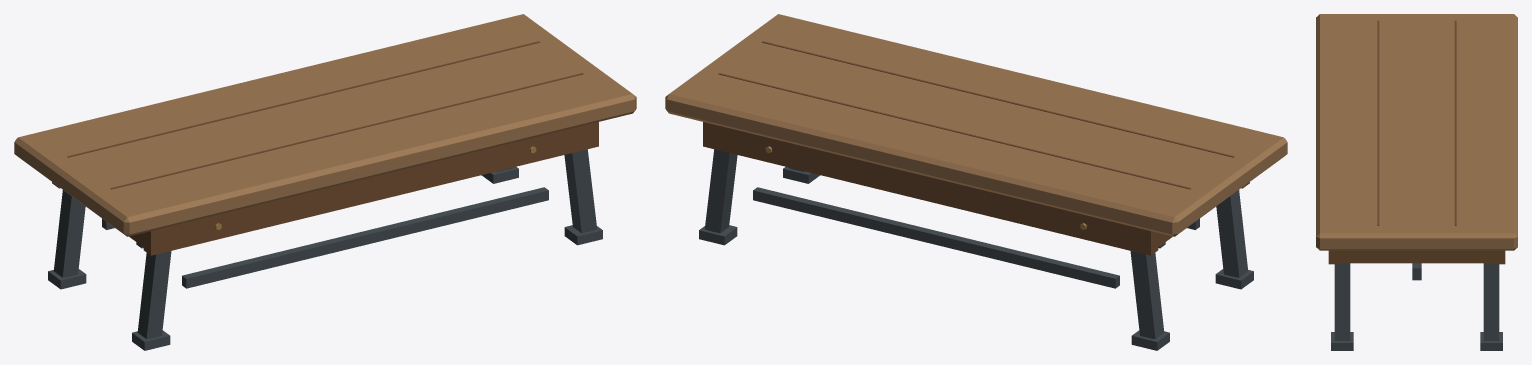
Rendered from 0-20261016-1900-ev010-r02-collab-meetingtable.fbx.
The picture shows the model from 3 angles, left to right: view 1: azimuth 30°, elevation 25°; view 2: azimuth 150°, elevation 25°; view 3: azimuth 270°, elevation 25°; orthographic projection. The views are drawn at different scales.
Visible parts, largest first — view 1: SW_Collab_MeetingTable; view 2: SW_Collab_MeetingTable; view 3: SW_Collab_MeetingTable.
Part boxes in pixels (x1,y1,x2,y2): SW_Collab_MeetingTable: [14, 14, 636, 350]; SW_Collab_MeetingTable: [665, 14, 1287, 350]; SW_Collab_MeetingTable: [1316, 14, 1517, 350].
Size of the model in its own units: 300 by 80.8 by 115.
